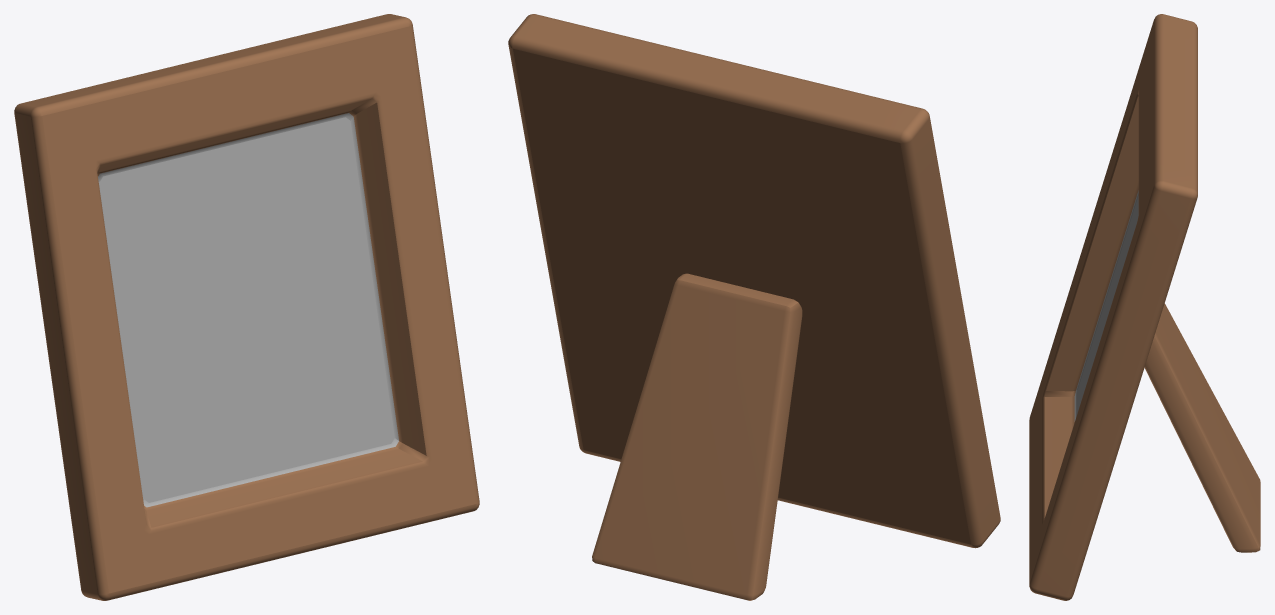
File: SM_photoFrame.fbx
3 renders of one model, left to right at view 1: azimuth 30°, elevation 25°; view 2: azimuth 150°, elevation 25°; view 3: azimuth 270°, elevation 25°, orthographic. The views are drawn at different scales.
Parts seen in each view (by area): view 1: framePortrait; view 2: framePortrait, frameStand_Portrait; view 3: framePortrait, frameStand_Portrait.
Boxes of the visible parts, bbox=[...] form: framePortrait: bbox=[14, 14, 479, 600]; framePortrait: bbox=[508, 14, 1000, 548]; frameStand_Portrait: bbox=[592, 273, 802, 600]; framePortrait: bbox=[1029, 14, 1197, 600]; frameStand_Portrait: bbox=[1144, 303, 1260, 552].
Bounding box in the file's own units: 149 × 170 × 84.28.
